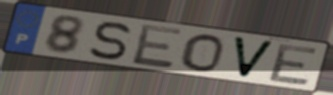8: (43, 13, 86, 57)
E: (130, 22, 185, 70), (266, 42, 321, 87)
O: (179, 32, 226, 73)
S: (87, 20, 134, 62)
V: (231, 34, 278, 80)
